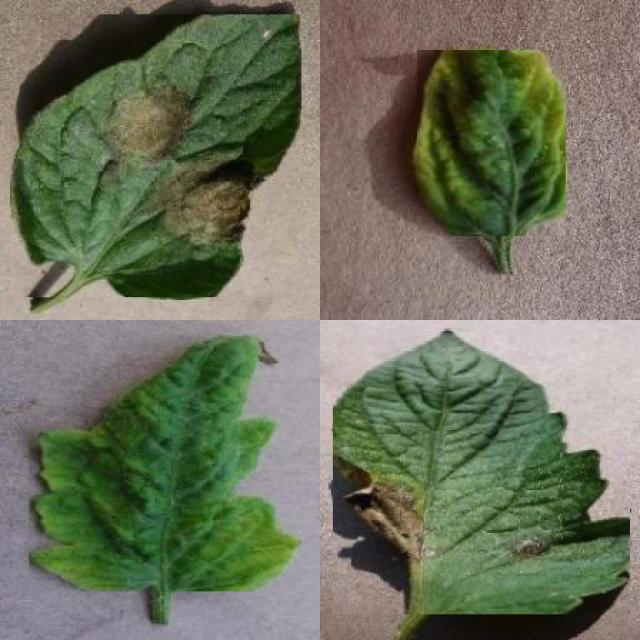Late Blight: (334, 329, 630, 614), (11, 14, 302, 297)
Yellow Leaf Curl Virus: (28, 334, 302, 592), (417, 51, 566, 236)
